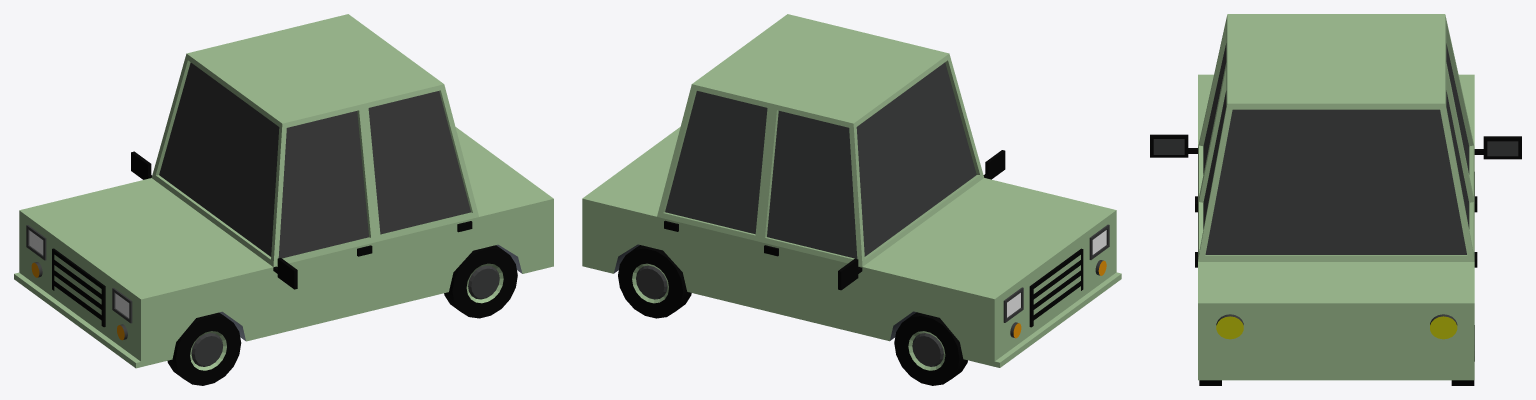
Rendered from car4E.FBX.
3 renders of one model, left to right at view 1: azimuth 30°, elevation 25°; view 2: azimuth 150°, elevation 25°; view 3: azimuth 270°, elevation 25°, orthographic. The views are drawn at different scales.
Visible parts, largest first — view 1: car4E; view 2: car4E; view 3: car4E.
Boxes of the visible parts, x1=… form: car4E: x1=14, y1=14, x2=553, y2=385; car4E: x1=582, y1=14, x2=1121, y2=385; car4E: x1=1150, y1=14, x2=1521, y2=385.
Bounding box in the file's own units: 9.78 × 5.11 × 6.58.
